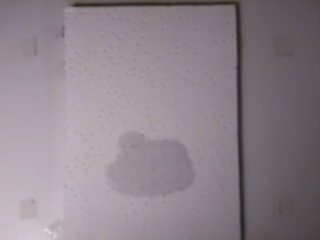Water_detected: (117, 140, 187, 189)
